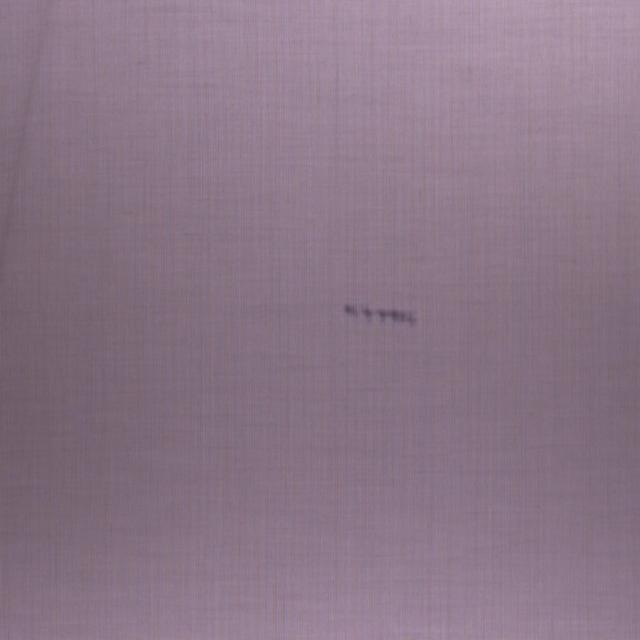dirty: (344, 298, 416, 328)
